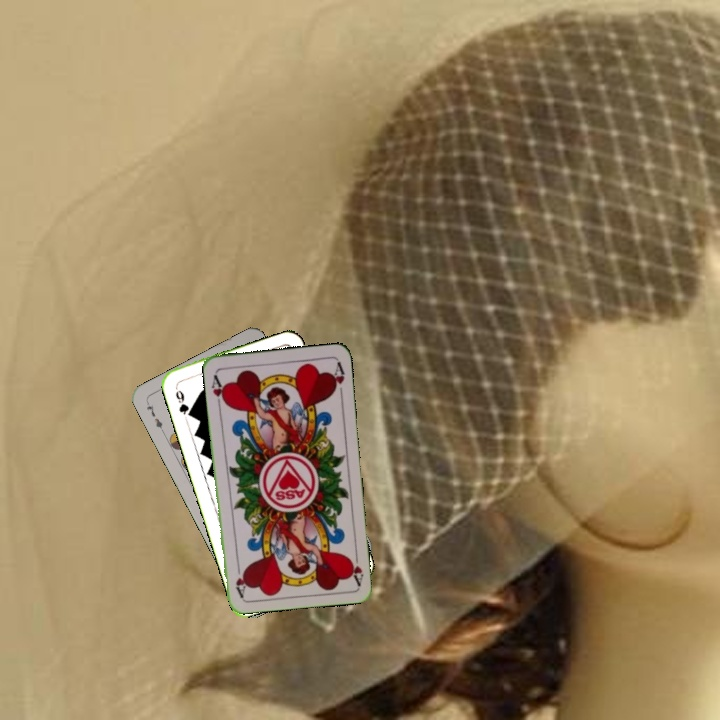E7: (142, 398, 167, 436)
G9: (171, 382, 195, 419)
HA: (345, 546, 366, 587), (208, 370, 229, 410)
